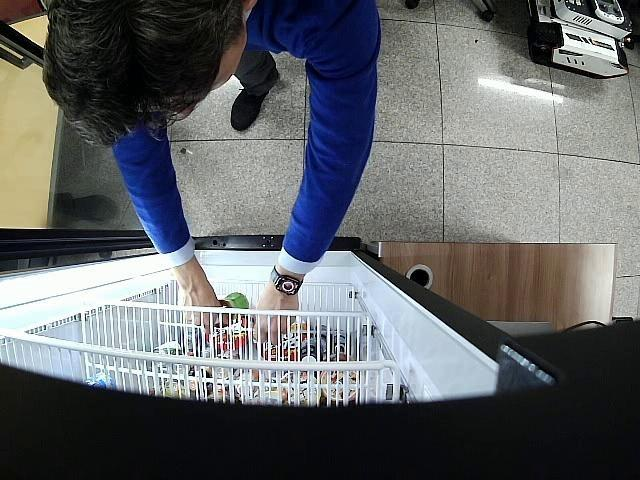19_17cha: (213, 292, 250, 328)
